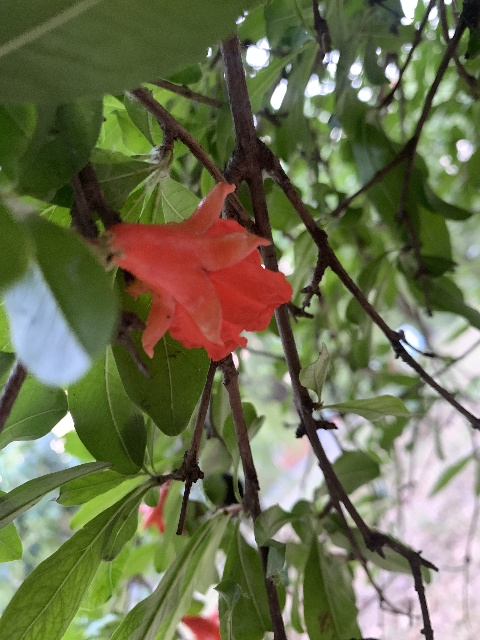flower: (106, 182, 291, 362), (138, 480, 169, 534), (179, 606, 224, 640)
